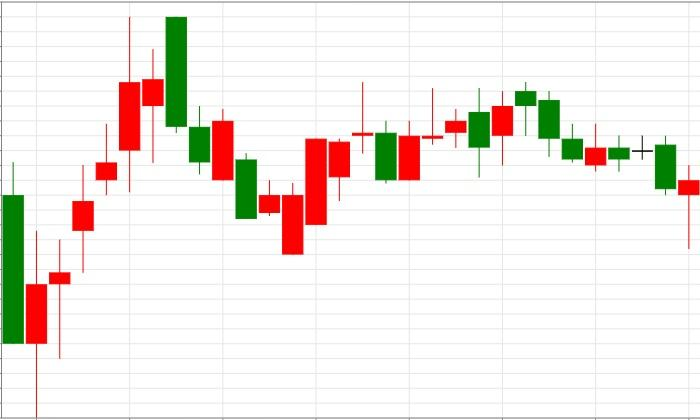evening_star_fall: (282, 80, 397, 255)
